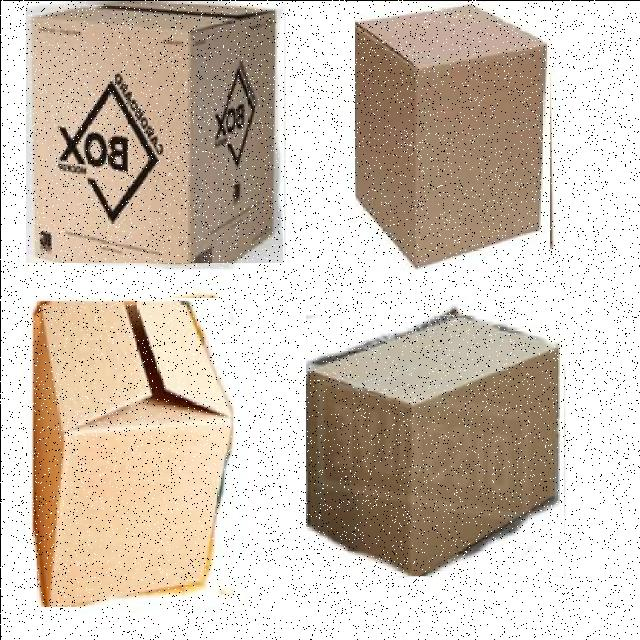defect: (20, 297, 237, 606)
normal: (25, 0, 283, 262), (305, 314, 563, 575), (354, 0, 549, 269)
